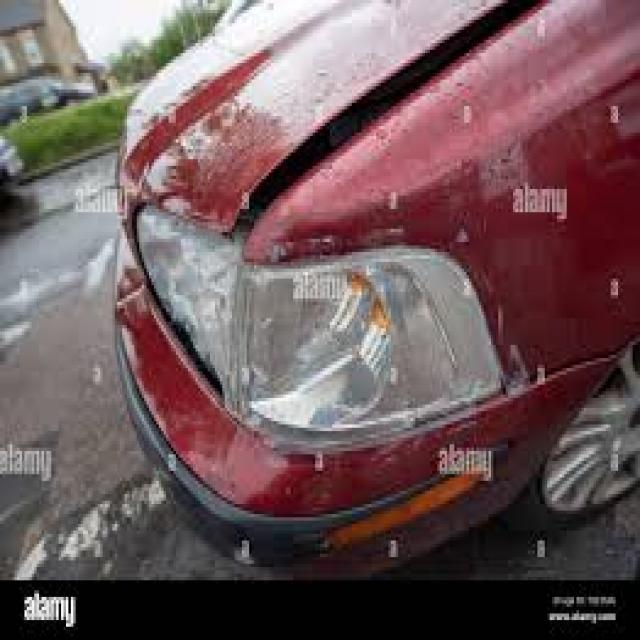damaged-head-light: (132, 204, 504, 429)
